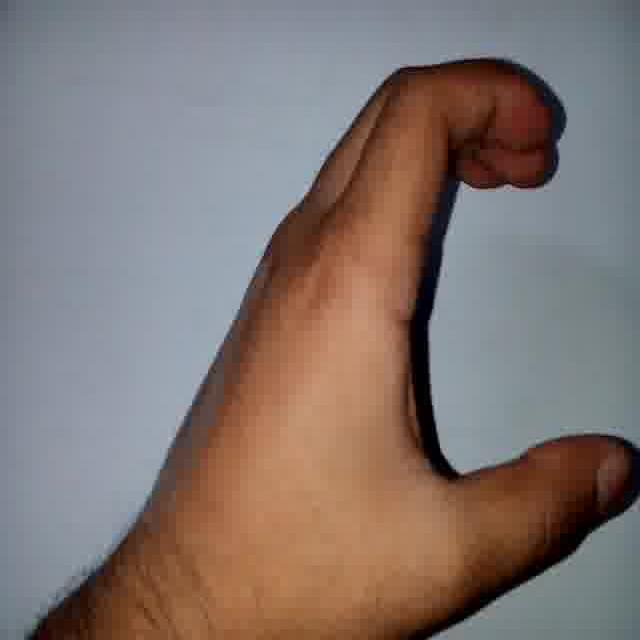Alphabet-C: (182, 48, 636, 625)
